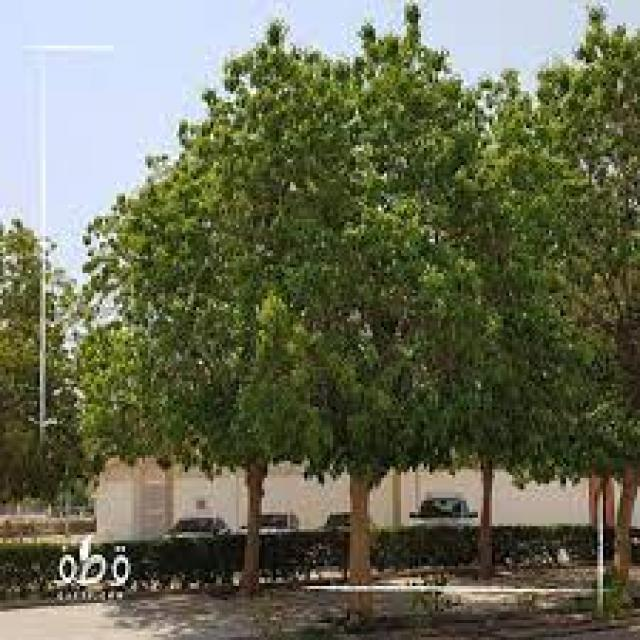tree: (88, 29, 344, 584), (312, 23, 520, 586), (523, 8, 640, 580)
